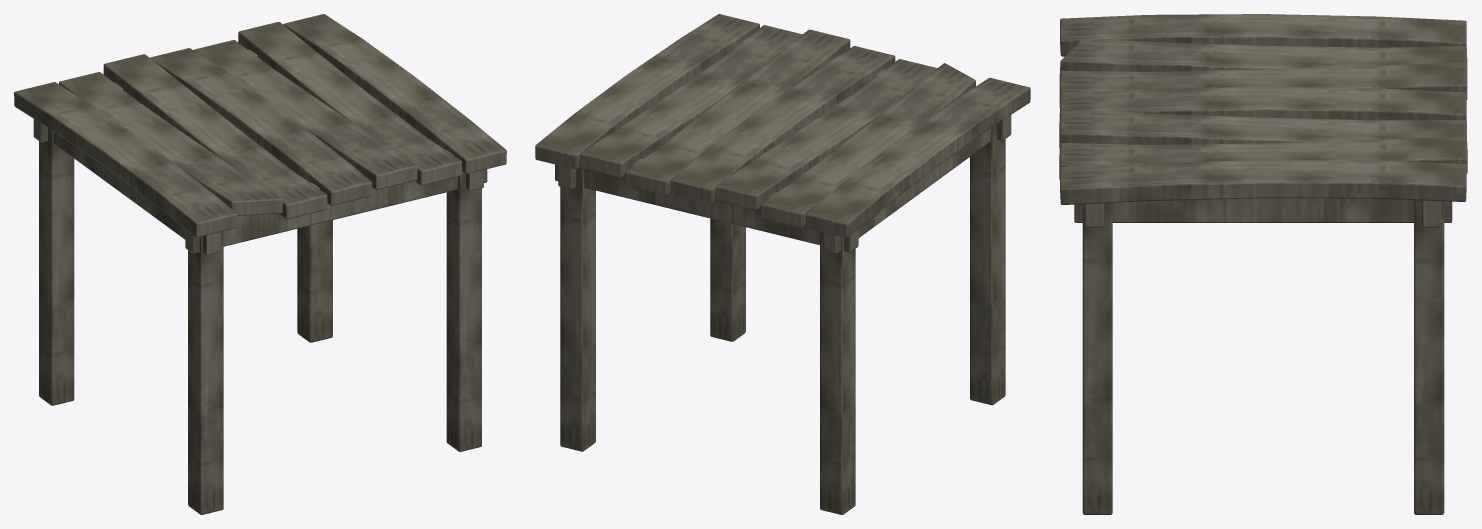
The model's file is by_table.glb.
3 renders of one model, left to right at view 1: azimuth 30°, elevation 25°; view 2: azimuth 150°, elevation 25°; view 3: azimuth 270°, elevation 25°, orthographic. The views are drawn at different scales.
Visible parts, largest first — view 1: by_table; view 2: by_table; view 3: by_table.
Part boxes in pixels (x1,y1,x2,y2): by_table: [14, 14, 506, 514]; by_table: [535, 14, 1030, 514]; by_table: [1059, 14, 1467, 514].
Bounding box in the file's own units: 0.686 × 0.649 × 0.7021.
Materials: 1 (1 with a texture image).
